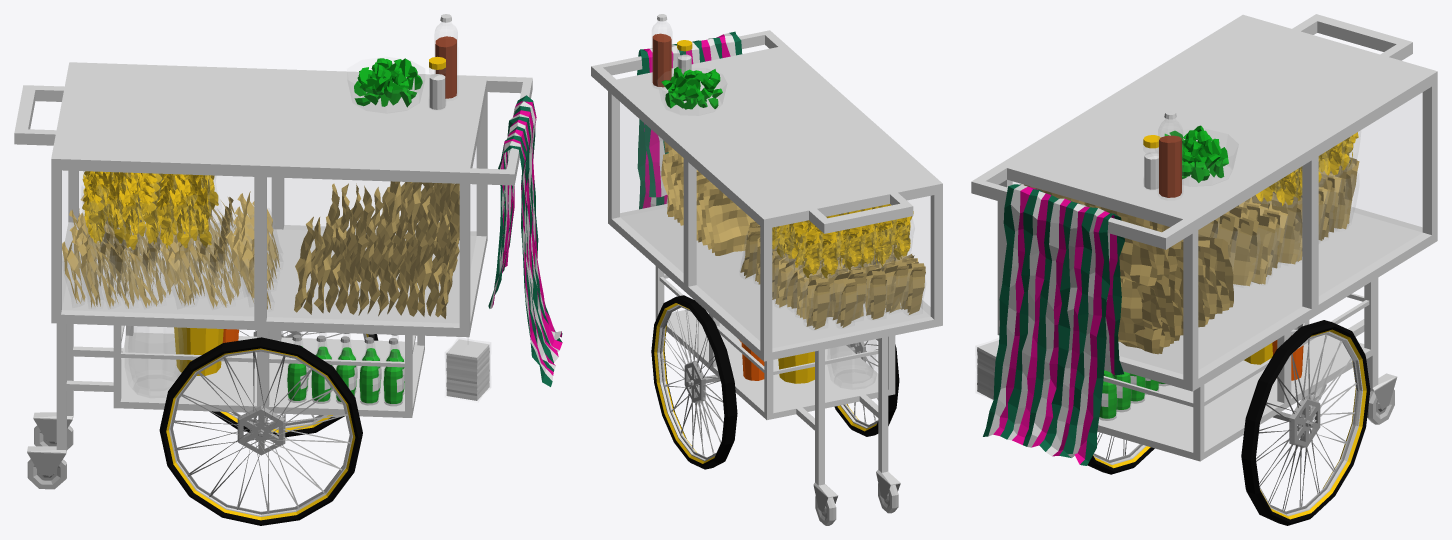
Rendered from PuestoDuros.fbx.
The picture shows the model from 3 angles, left to right: view 1: azimuth 30°, elevation 25°; view 2: azimuth 150°, elevation 25°; view 3: azimuth 270°, elevation 25°; orthographic projection. The views are drawn at different scales.
Visible parts, largest first — view 1: Object_95, Object_97, Object_101, Object_100, Object_98, Object_104, Object_93, Object_99, Object_96, Object_103, Object_94; view 2: Object_95, Object_101, Object_97, Object_100, Object_98, Object_93, Object_104, Object_99, Object_96, Object_103, Object_94, Object_102; view 3: Object_95, Object_97, Object_101, Object_99, Object_96, Object_98, Object_93, Object_100, Object_104, Object_103, Object_94.
Part boxes in pixels (x1=…): Object_95: x1=14, y1=14, x2=561, y2=516; Object_97: x1=62, y1=181, x2=459, y2=318; Object_101: x1=62, y1=22, x2=490, y2=401; Object_100: x1=82, y1=56, x2=445, y2=520; Object_98: x1=27, y1=330, x2=404, y2=514; Object_104: x1=287, y1=58, x2=422, y2=403; Object_93: x1=159, y1=334, x2=378, y2=525; Object_99: x1=488, y1=95, x2=562, y2=386; Object_96: x1=492, y1=101, x2=562, y2=375; Object_103: x1=435, y1=36, x2=456, y2=98; Object_94: x1=27, y1=425, x2=73, y2=489; Object_95: x1=591, y1=14, x2=942, y2=498; Object_101: x1=620, y1=21, x2=929, y2=388; Object_97: x1=661, y1=141, x2=925, y2=329; Object_100: x1=654, y1=40, x2=913, y2=463; Object_98: x1=660, y1=306, x2=900, y2=517; Object_93: x1=651, y1=295, x2=899, y2=469; Object_104: x1=661, y1=67, x2=722, y2=109; Object_99: x1=637, y1=31, x2=742, y2=209; Object_96: x1=642, y1=34, x2=730, y2=208; Object_103: x1=652, y1=33, x2=671, y2=87; Object_94: x1=815, y1=483, x2=898, y2=525; Object_102: x1=739, y1=340, x2=764, y2=380; Object_95: x1=971, y1=14, x2=1437, y2=516; Object_97: x1=1020, y1=157, x2=1359, y2=354; Object_101: x1=976, y1=93, x2=1421, y2=416; Object_99: x1=983, y1=184, x2=1124, y2=465; Object_96: x1=993, y1=186, x2=1117, y2=464; Object_98: x1=1093, y1=332, x2=1396, y2=514; Object_93: x1=1087, y1=320, x2=1370, y2=525; Object_100: x1=1093, y1=132, x2=1366, y2=519; Object_104: x1=1099, y1=125, x2=1228, y2=418; Object_103: x1=1159, y1=135, x2=1181, y2=197; Object_94: x1=1305, y1=384, x2=1394, y2=424.
Size of the model in its own units: 187 by 178 by 164.
